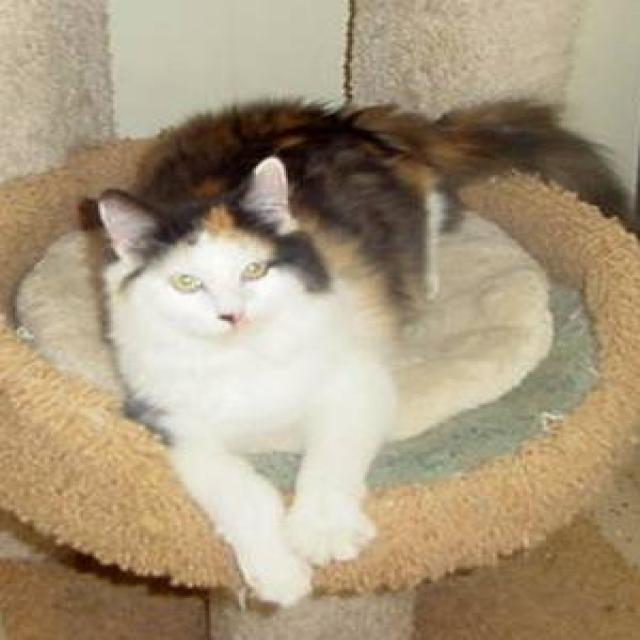Cat: (83, 171, 350, 363)
